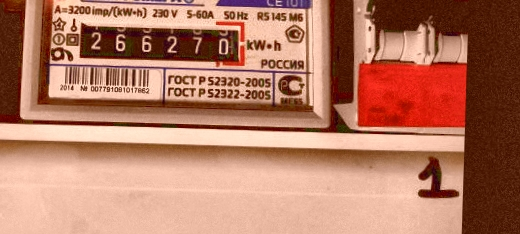0: (215, 35, 230, 56)
2: (88, 30, 102, 51), (165, 34, 179, 54)
6: (113, 31, 126, 53), (139, 33, 153, 53)
7: (191, 35, 202, 54)
screen: (67, 12, 251, 73)
